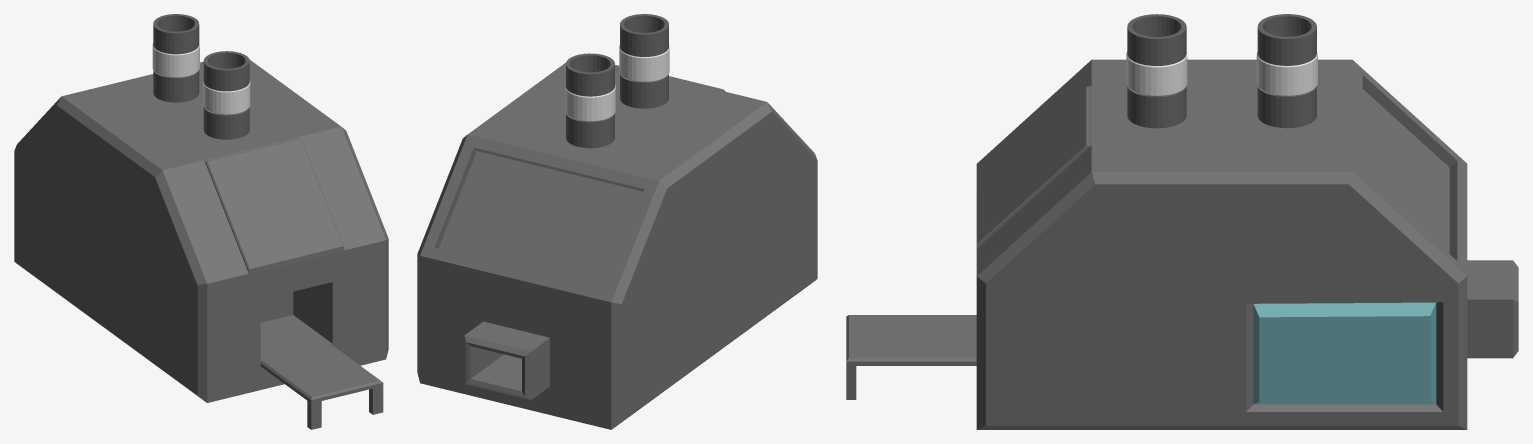
Rendered from Seed_Fuser.fbx.
The picture shows the model from 3 angles, left to right: view 1: azimuth 30°, elevation 25°; view 2: azimuth 150°, elevation 25°; view 3: azimuth 270°, elevation 25°; orthographic projection. The views are drawn at different scales.
Parts seen in each view (by area): view 1: Cube; view 2: Cube; view 3: Cube.
Boxes of the visible parts, x1,y1,x2,y2 form: Cube: (14, 14, 388, 429); Cube: (417, 14, 817, 429); Cube: (846, 14, 1518, 429).
Size of the model in its own units: 203 by 272 by 473.
